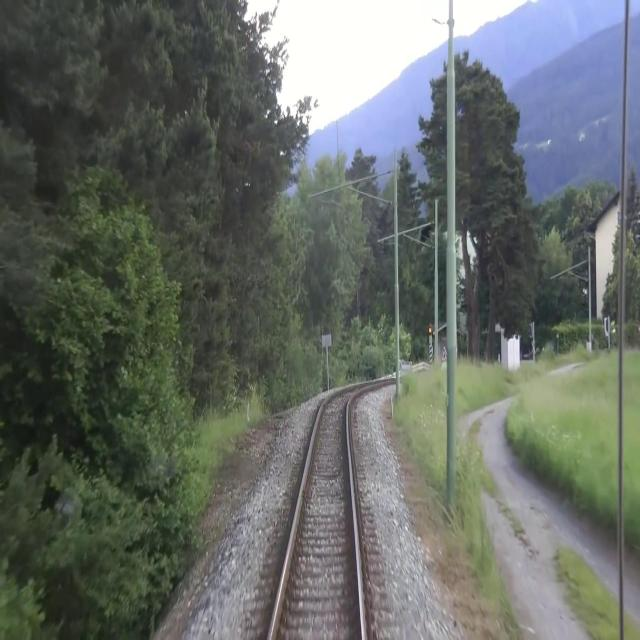rail-track: (272, 390, 360, 639)
